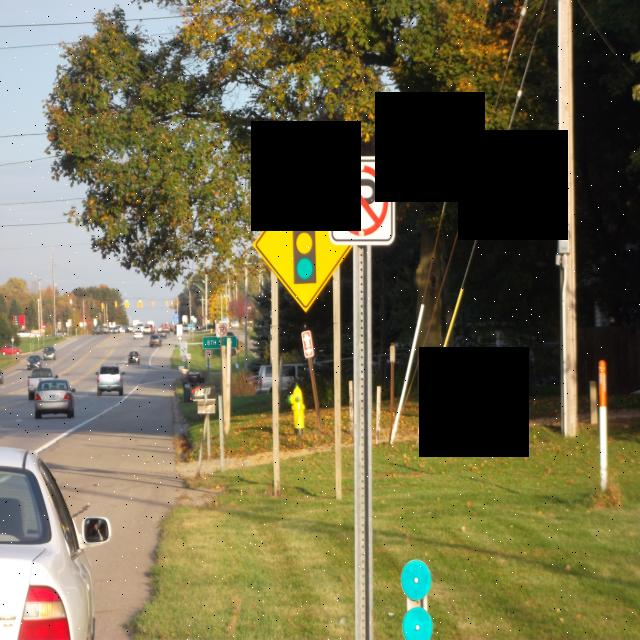regulatory: (326, 154, 399, 248), (216, 321, 228, 340), (177, 340, 189, 359), (206, 348, 213, 359)
warning: (253, 174, 353, 314)
